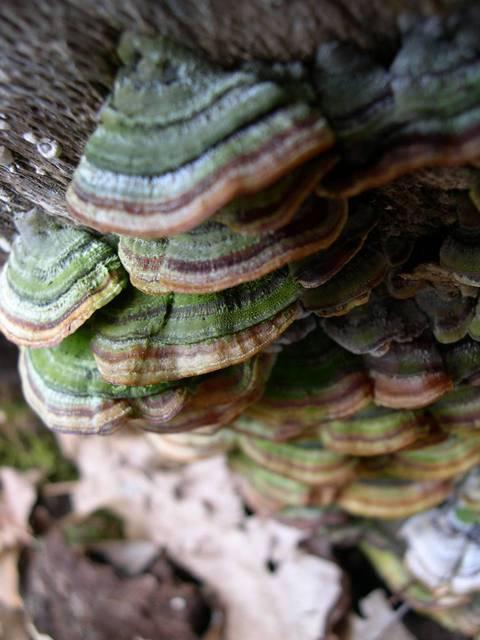Non-edible Mushroom: (0, 248, 473, 508), (63, 26, 335, 240), (0, 205, 127, 349)
